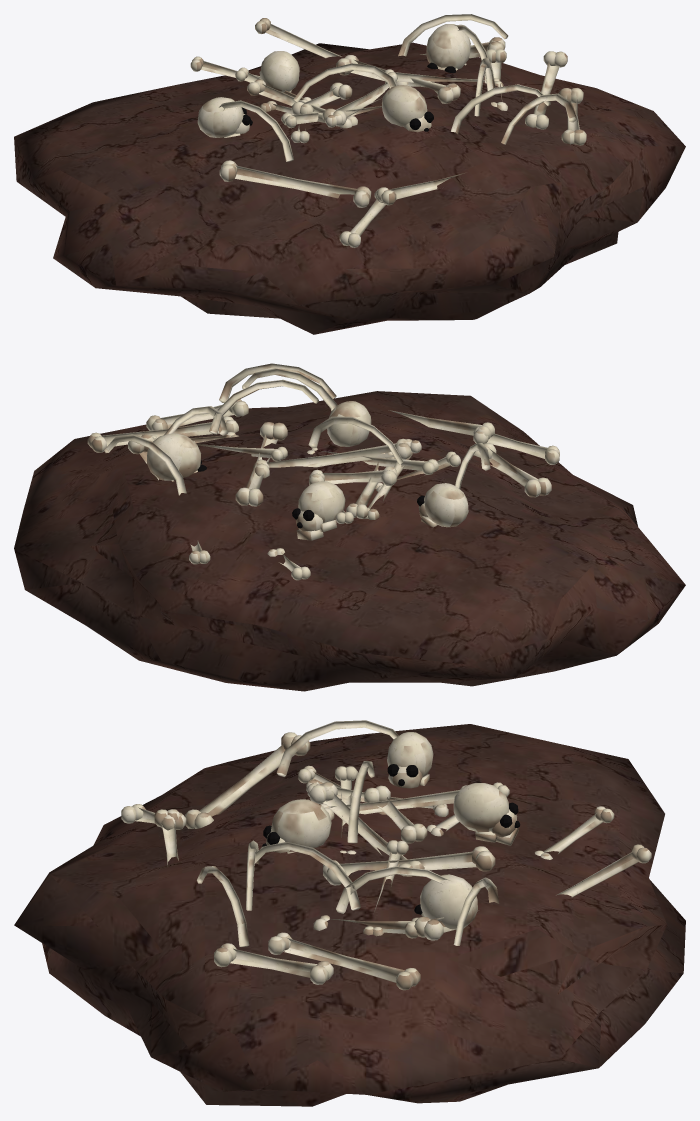
File: bone_pile.glb
3 renders of one model, top to bottom at view 1: azimuth 30°, elevation 25°; view 2: azimuth 150°, elevation 25°; view 3: azimuth 270°, elevation 25°, orthographic. The views are drawn at different scales.
Parts seen in each view (by area): view 1: BoneMound, Bones; view 2: BoneMound, Bones; view 3: BoneMound, Bones, BoneSockets.
Boxes of the visible parts, <box> form: BoneMound: <box>14,42,685,334</box>; Bones: <box>190,14,586,247</box>; BoneMound: <box>14,391,685,691</box>; Bones: <box>87,363,559,580</box>; BoneMound: <box>14,724,685,1106</box>; Bones: <box>121,720,651,990</box>; BoneSockets: <box>262,764,520,914</box>.
Size of the model in its own units: 3.66 by 1.21 by 3.04.
3 materials, 2 textured.
